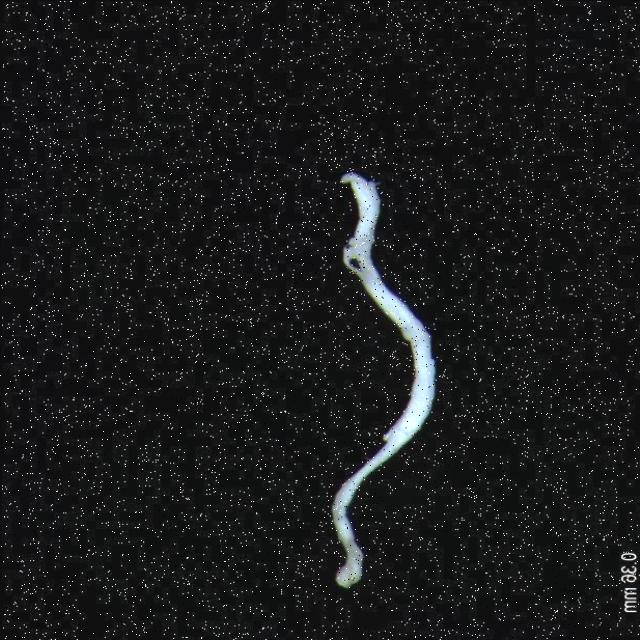Fibre: (334, 172, 438, 602)
